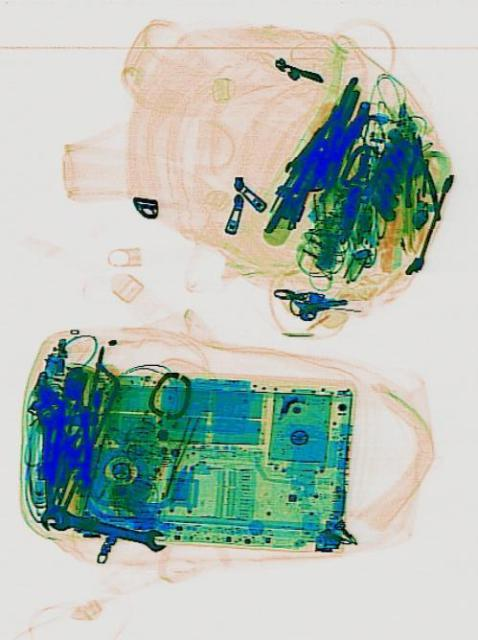Wrench: (48, 506, 165, 550), (35, 404, 58, 528)
